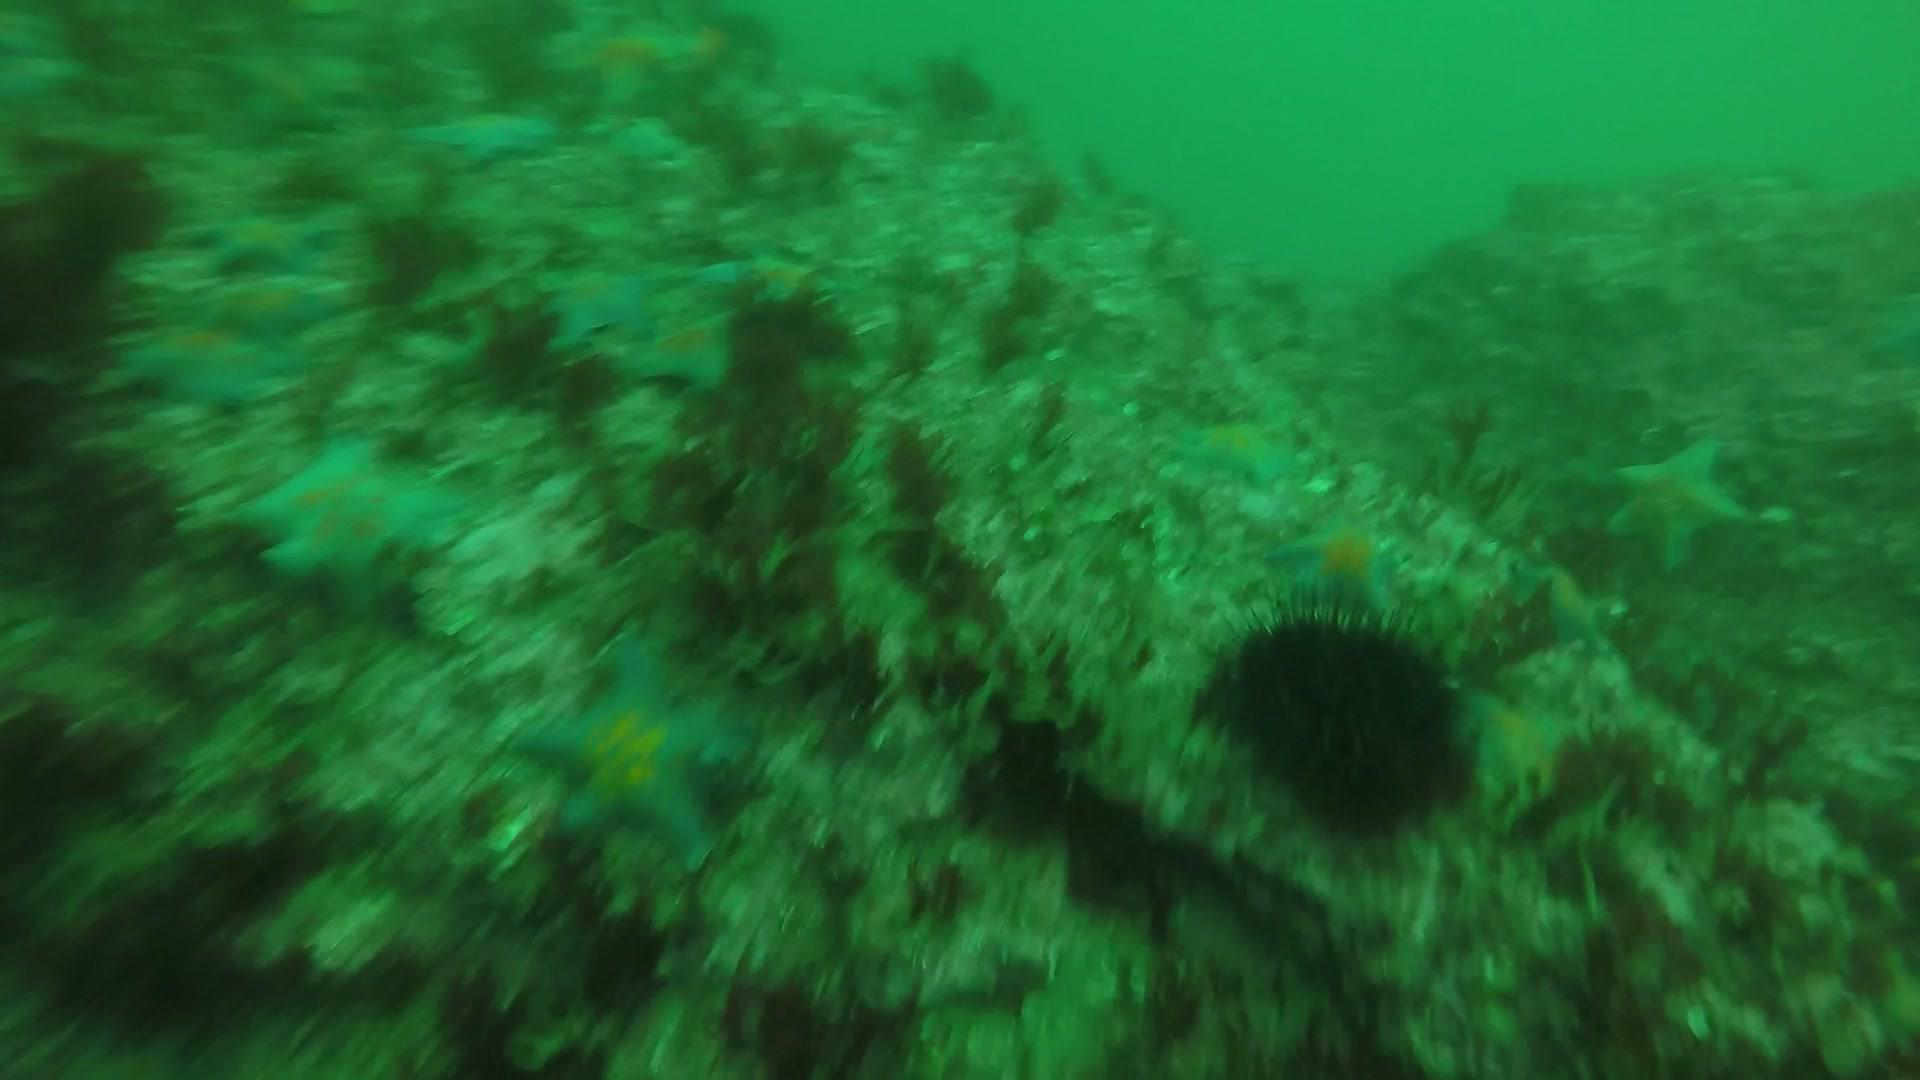urchin: (1176, 589, 1462, 822)
